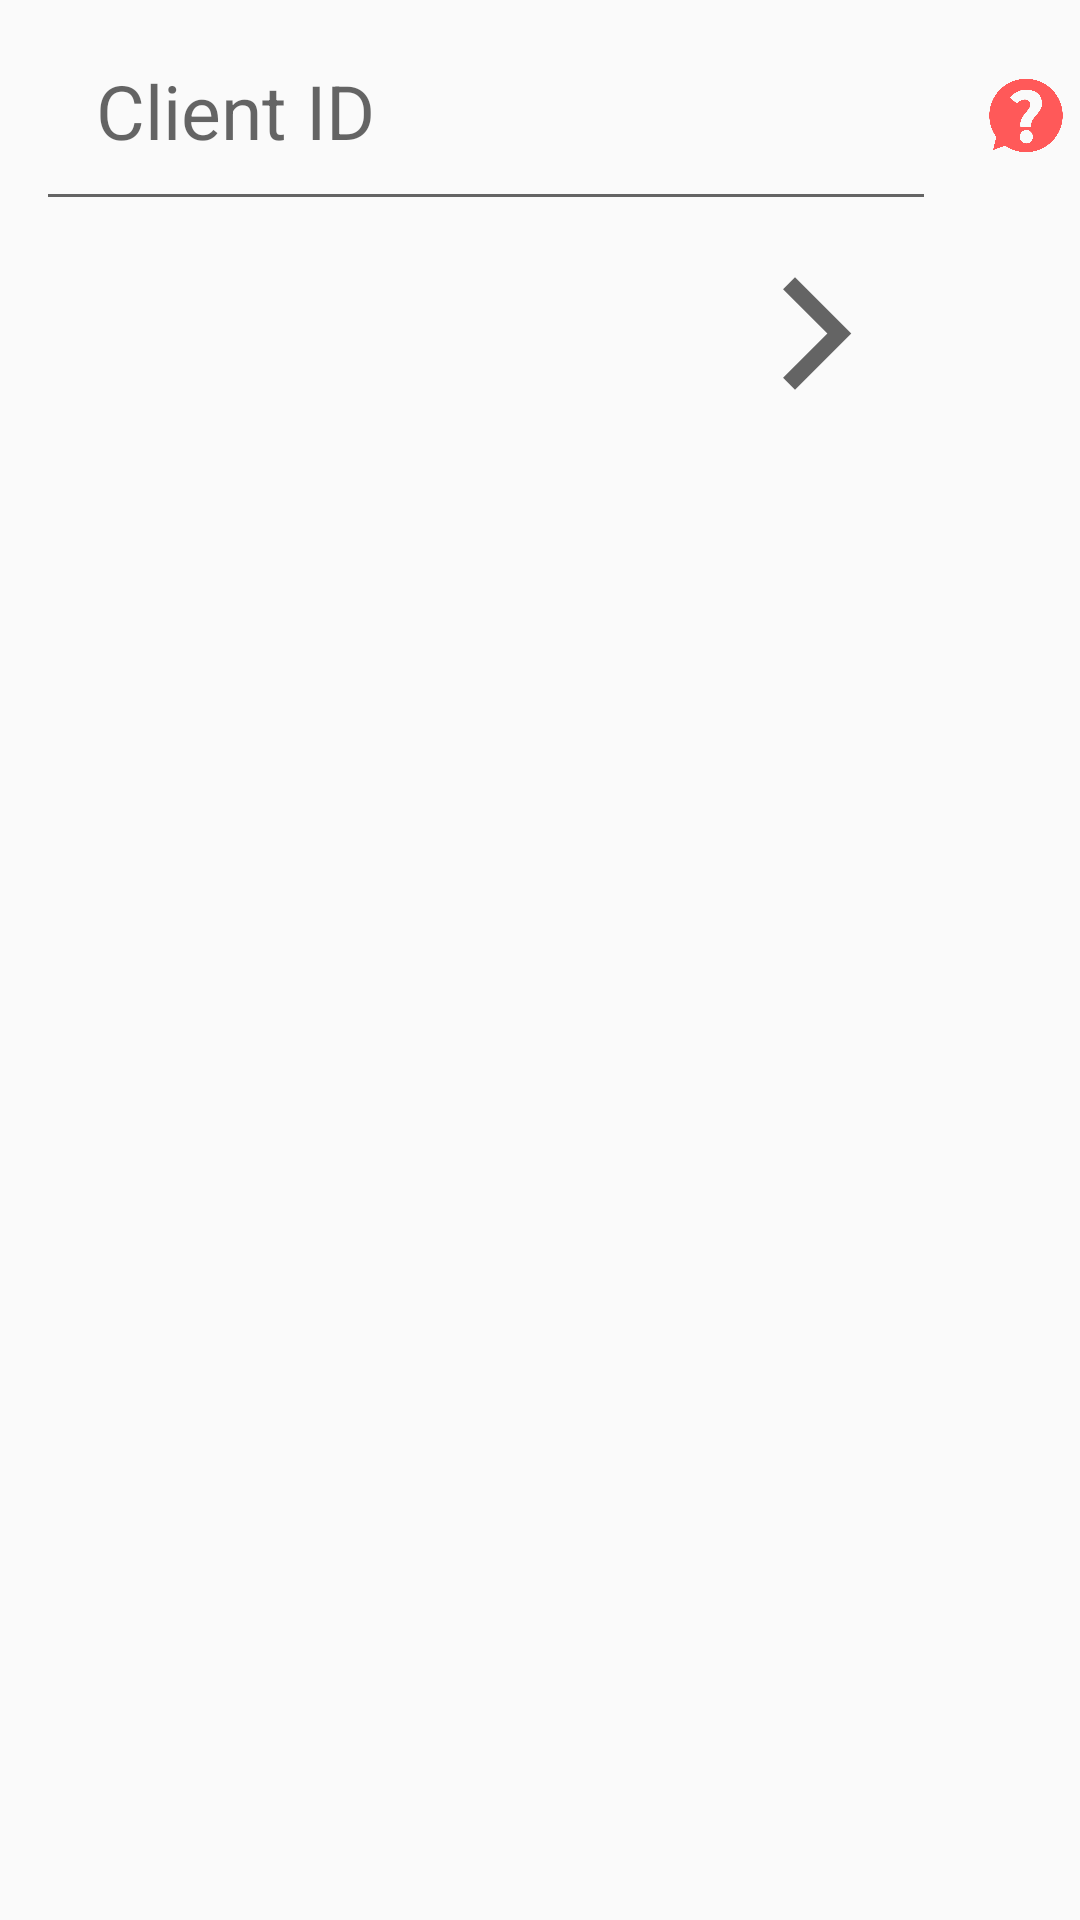

Icons on this 1080×1920 Android screen, each with its box as (x1, y1, x2, y2):
question: (989, 79, 1063, 152)
